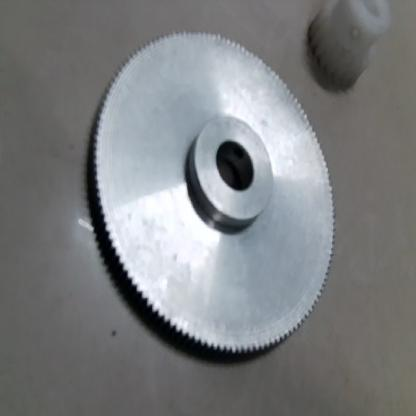FOD: (76, 29, 335, 358), (306, 0, 399, 90)
